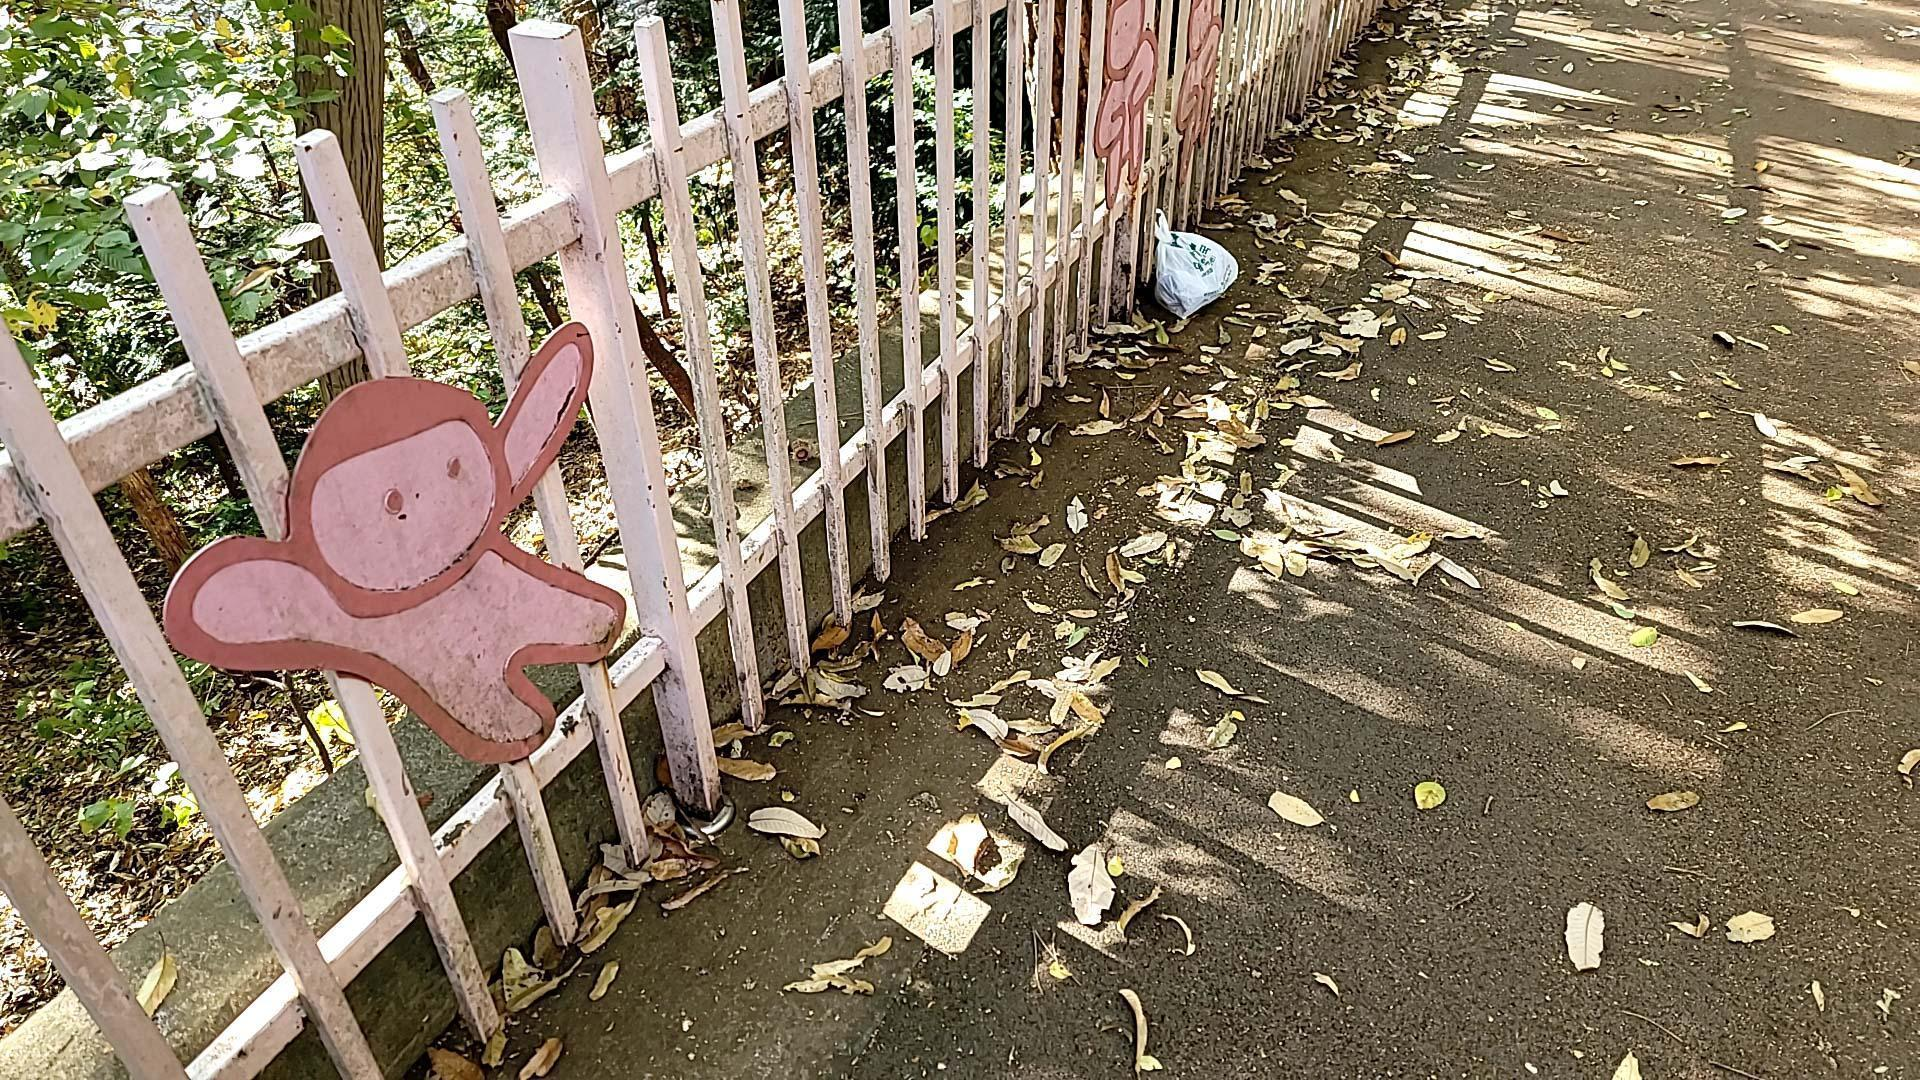white_bag: (1145, 203, 1244, 332)
